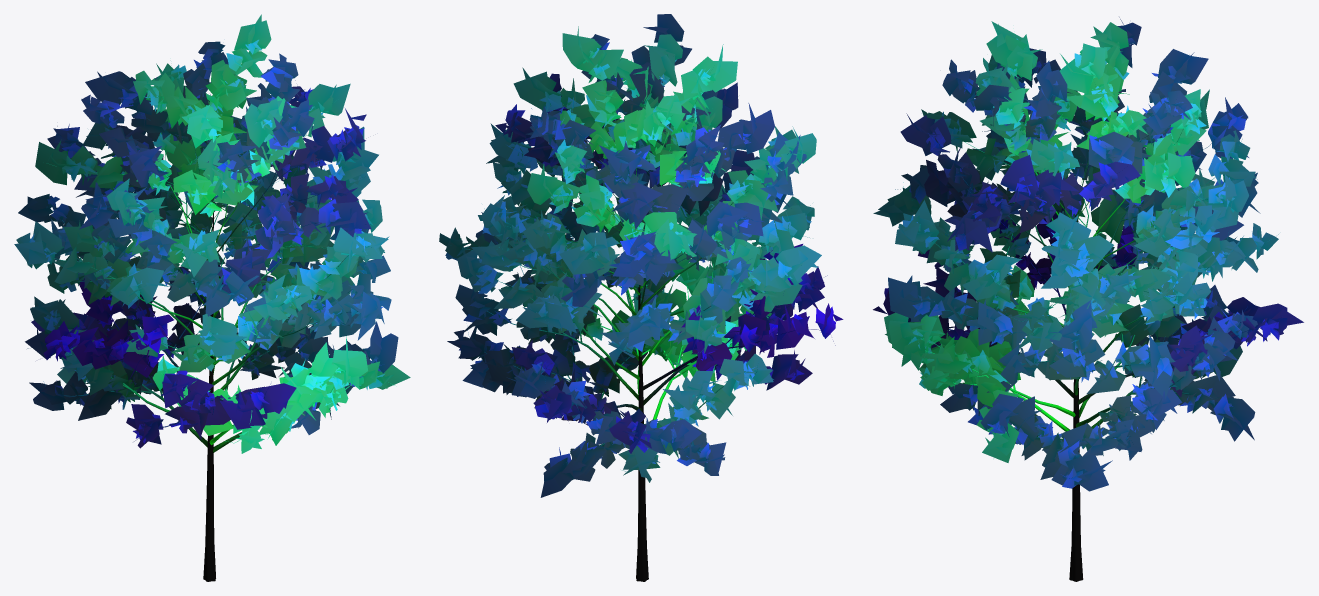
Rendered from cP_Tree06.fbx.
3 renders of one model, left to right at view 1: azimuth 30°, elevation 25°; view 2: azimuth 150°, elevation 25°; view 3: azimuth 270°, elevation 25°, orthographic. The views are drawn at different scales.
Parts seen in each view (by area): view 1: cP_Tree06_LOD0; view 2: cP_Tree06_LOD0; view 3: cP_Tree06_LOD0.
Part boxes in pixels (x1=…): cP_Tree06_LOD0: x1=14, y1=14, x2=410, y2=581; cP_Tree06_LOD0: x1=439, y1=14, x2=843, y2=581; cP_Tree06_LOD0: x1=873, y1=17, x2=1303, y2=581.
Size of what is drawn, in the model's own units: 1542 by 2247 by 1554.
